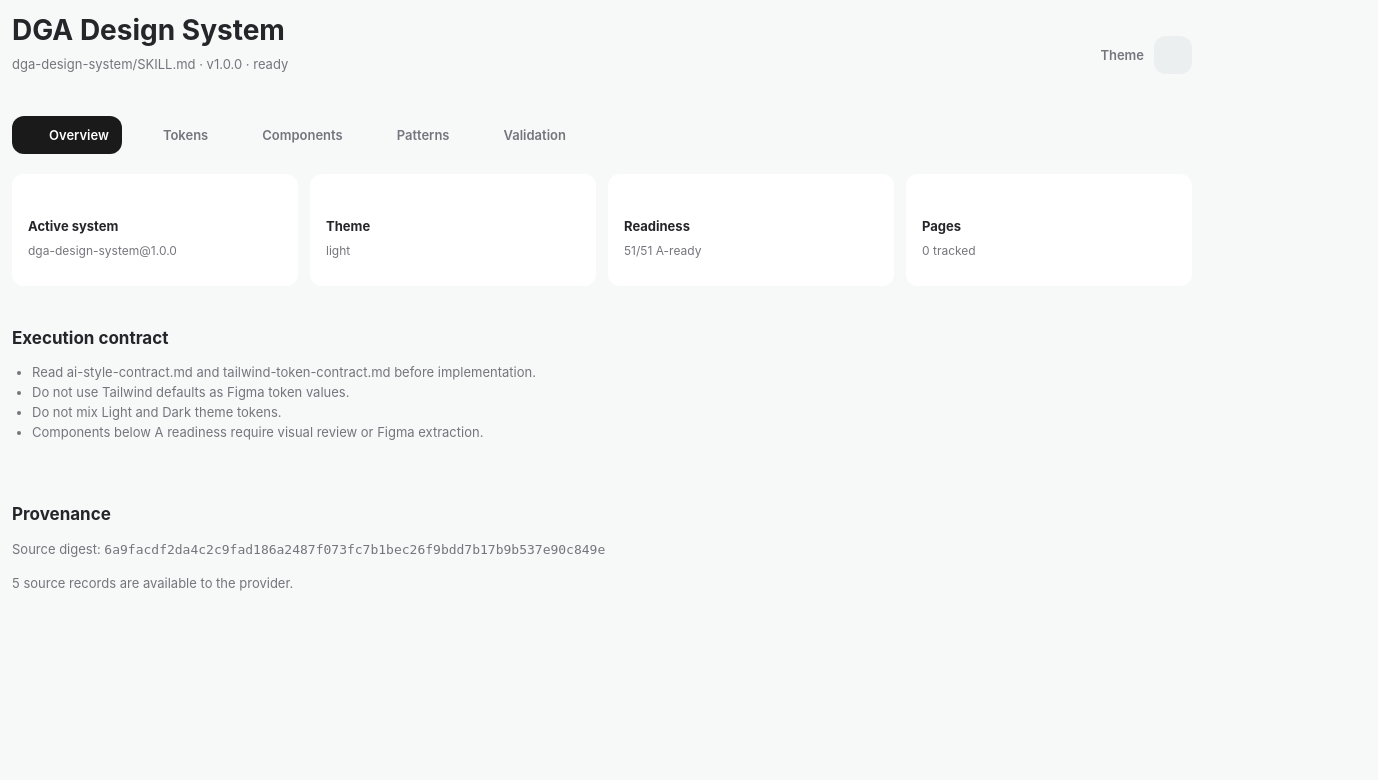
Test case: DesignSystemView visual catalogs › renders visual component previews with readiness metadata
Click the tab "Components" at (291, 135), box [225,116,356,154]
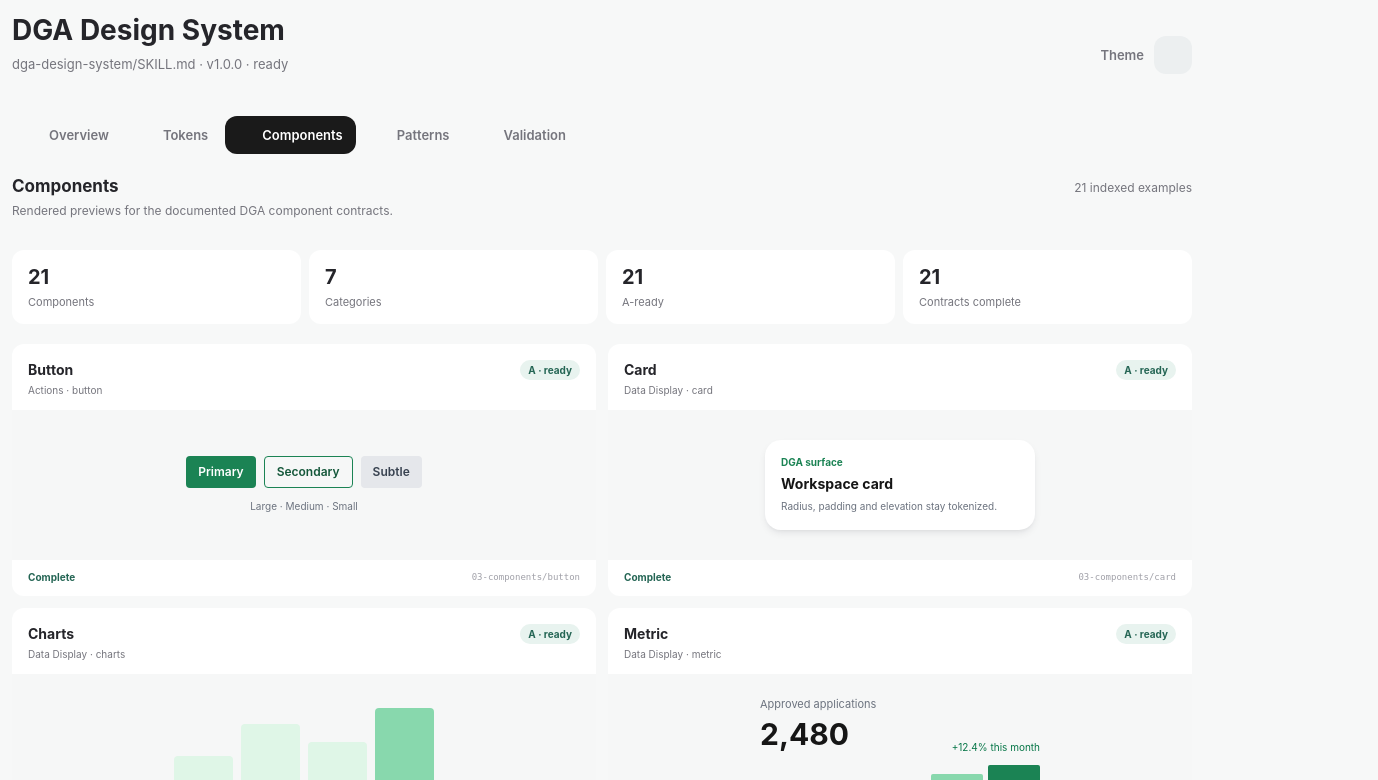
Expected: the text "Rendered previews for the documented DGA component contracts." is shown, [12,202,393,220]
Expected: the button "Primary" is shown, [186,456,256,488]
Expected: the text "Workspace card" is shown, [781,475,893,492]
